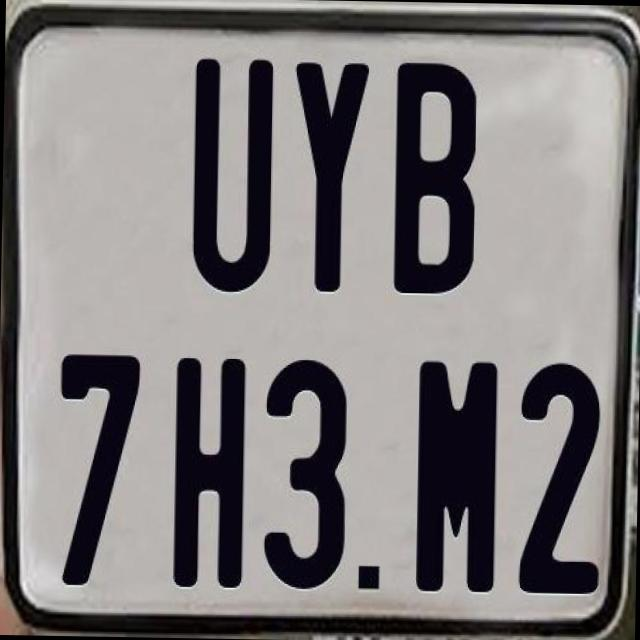2: (514, 360, 604, 592)
3: (260, 360, 351, 598)
7: (54, 352, 140, 584)
B: (392, 57, 482, 290)
H: (172, 354, 246, 594)
M: (415, 359, 501, 595)
U: (191, 56, 278, 298)
Y: (288, 59, 366, 294)
